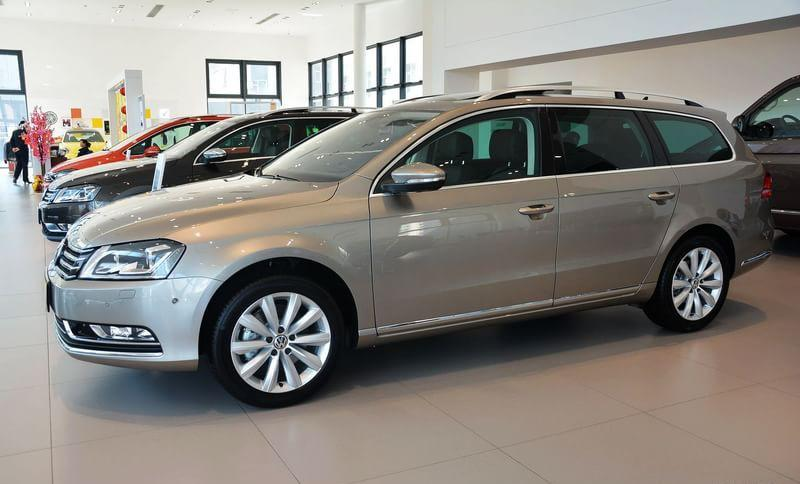Wagon: (42, 84, 777, 409)
